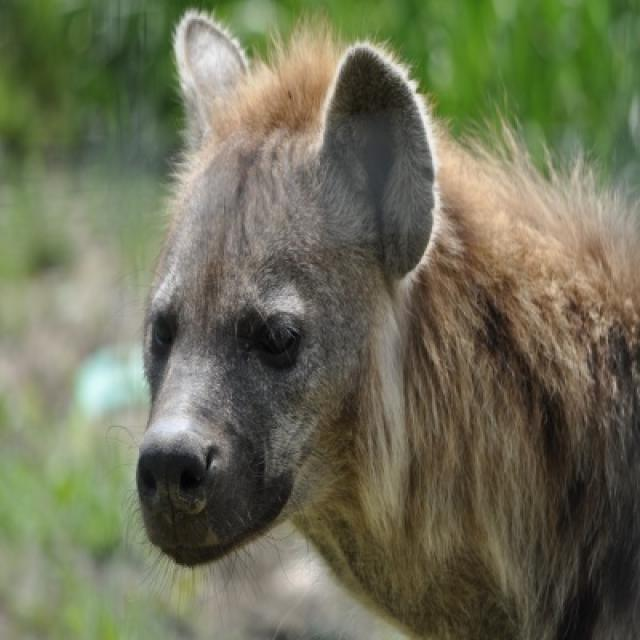hyena: (134, 13, 638, 638)
